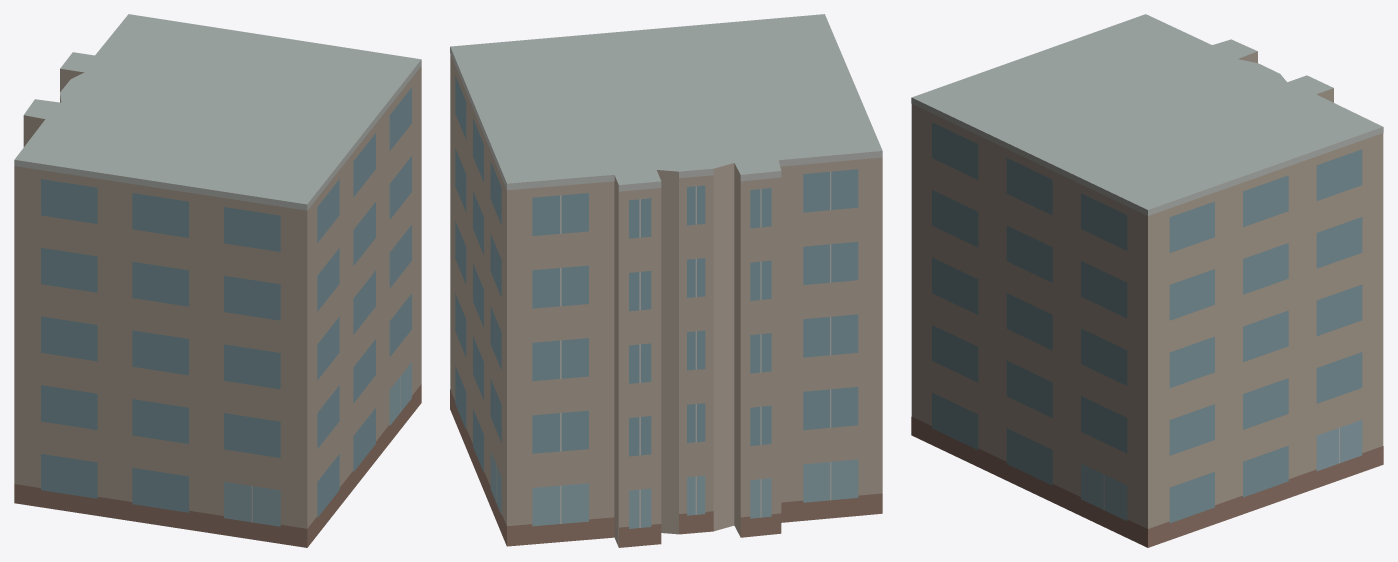
File: survey-upis-32629672.glb
3 renders of one model, left to right at view 1: azimuth 30°, elevation 25°; view 2: azimuth 150°, elevation 25°; view 3: azimuth 270°, elevation 25°, orthographic. The views are drawn at different scales.
Parts seen in each view (by area): view 1: survey-upis-32629672.tmp; view 2: survey-upis-32629672.tmp; view 3: survey-upis-32629672.tmp.
Boxes of the visible parts, bbox=[...] form: survey-upis-32629672.tmp: bbox=[14, 14, 421, 547]; survey-upis-32629672.tmp: bbox=[450, 14, 882, 547]; survey-upis-32629672.tmp: bbox=[911, 14, 1383, 547].
Bounding box in the file's own units: 16.81 × 13.5 × 17.1.
